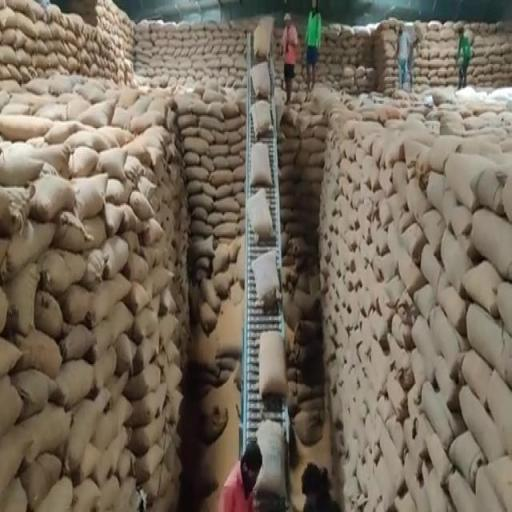c-belt-sack-count: (259, 331, 287, 399), (252, 250, 279, 305), (246, 189, 274, 242)
